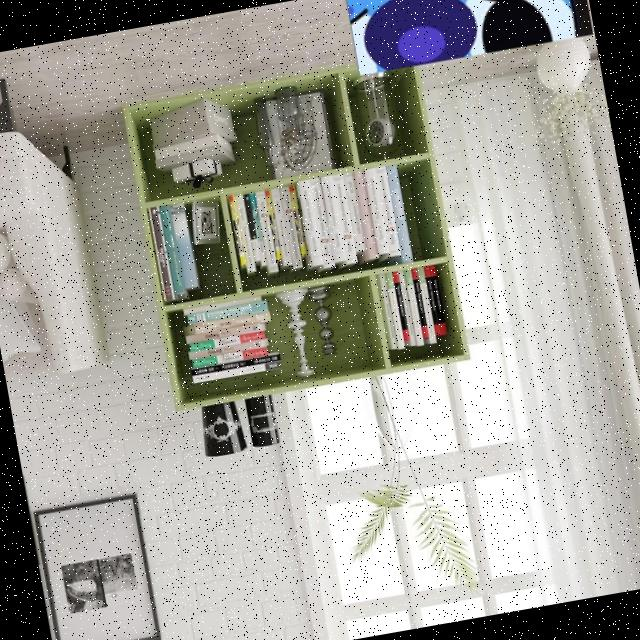Shelf: (117, 45, 480, 419)
